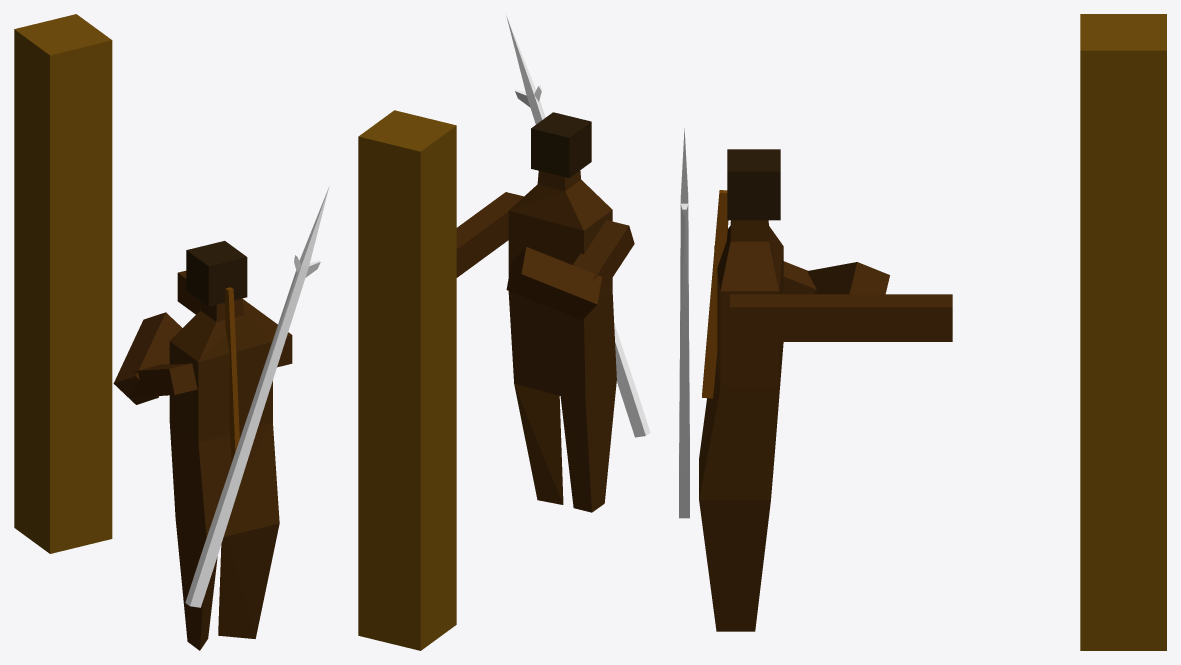
The picture shows the model from 3 angles, left to right: view 1: azimuth 30°, elevation 25°; view 2: azimuth 150°, elevation 25°; view 3: azimuth 270°, elevation 25°; orthographic projection. The views are drawn at different scales.
Parts seen in each view (by area): view 1: Cube-S3D-15-FLIPPED, Cube-S3D-14, Cube-S3D-20-FLIPPED, Cube-S3D-16-FLIPPED, Cube-S3D-19-FLIPPED, Cube-S3D-18-FLIPPED, Cube-S3D-21-FLIPPED, Cube-S3D-17-FLIPPED; view 2: Cube-S3D-15-FLIPPED, Cube-S3D-14, Cube-S3D-19-FLIPPED, Cube-S3D-16-FLIPPED, Cube-S3D-17-FLIPPED, Cube-S3D-20-FLIPPED, Cube-S3D-18-FLIPPED; view 3: Cube-S3D-15-FLIPPED, Cube-S3D-14, Cube-S3D-17-FLIPPED, Cube-S3D-16-FLIPPED, Cube-S3D-20-FLIPPED, Cube-S3D-19-FLIPPED, Cube-S3D-21-FLIPPED, Cube-S3D-18-FLIPPED.
Part boxes in pixels (x1=…): Cube-S3D-15-FLIPPED: x1=14, y1=14, x2=112, y2=553; Cube-S3D-14: x1=169, y1=298, x2=279, y2=650; Cube-S3D-20-FLIPPED: x1=185, y1=186, x2=329, y2=607; Cube-S3D-16-FLIPPED: x1=186, y1=241, x2=247, y2=306; Cube-S3D-19-FLIPPED: x1=113, y1=312, x2=182, y2=404; Cube-S3D-18-FLIPPED: x1=129, y1=363, x2=197, y2=397; Cube-S3D-21-FLIPPED: x1=224, y1=287, x2=239, y2=462; Cube-S3D-17-FLIPPED: x1=177, y1=270, x2=292, y2=367; Cube-S3D-15-FLIPPED: x1=358, y1=110, x2=456, y2=650; Cube-S3D-14: x1=508, y1=170, x2=616, y2=512; Cube-S3D-19-FLIPPED: x1=506, y1=247, x2=602, y2=320; Cube-S3D-16-FLIPPED: x1=531, y1=112, x2=591, y2=177; Cube-S3D-17-FLIPPED: x1=456, y1=192, x2=523, y2=277; Cube-S3D-20-FLIPPED: x1=506, y1=15, x2=650, y2=437; Cube-S3D-18-FLIPPED: x1=573, y1=220, x2=634, y2=298; Cube-S3D-15-FLIPPED: x1=1080, y1=14, x2=1166, y2=650; Cube-S3D-14: x1=699, y1=220, x2=783, y2=631; Cube-S3D-17-FLIPPED: x1=730, y1=294, x2=952, y2=341; Cube-S3D-16-FLIPPED: x1=727, y1=149, x2=780, y2=220; Cube-S3D-20-FLIPPED: x1=679, y1=128, x2=689, y2=518; Cube-S3D-19-FLIPPED: x1=807, y1=262, x2=889, y2=294; Cube-S3D-21-FLIPPED: x1=702, y1=190, x2=728, y2=398; Cube-S3D-18-FLIPPED: x1=783, y1=261, x2=816, y2=294.
Size of the model in its own units: 4 by 12.38 by 9.12.
